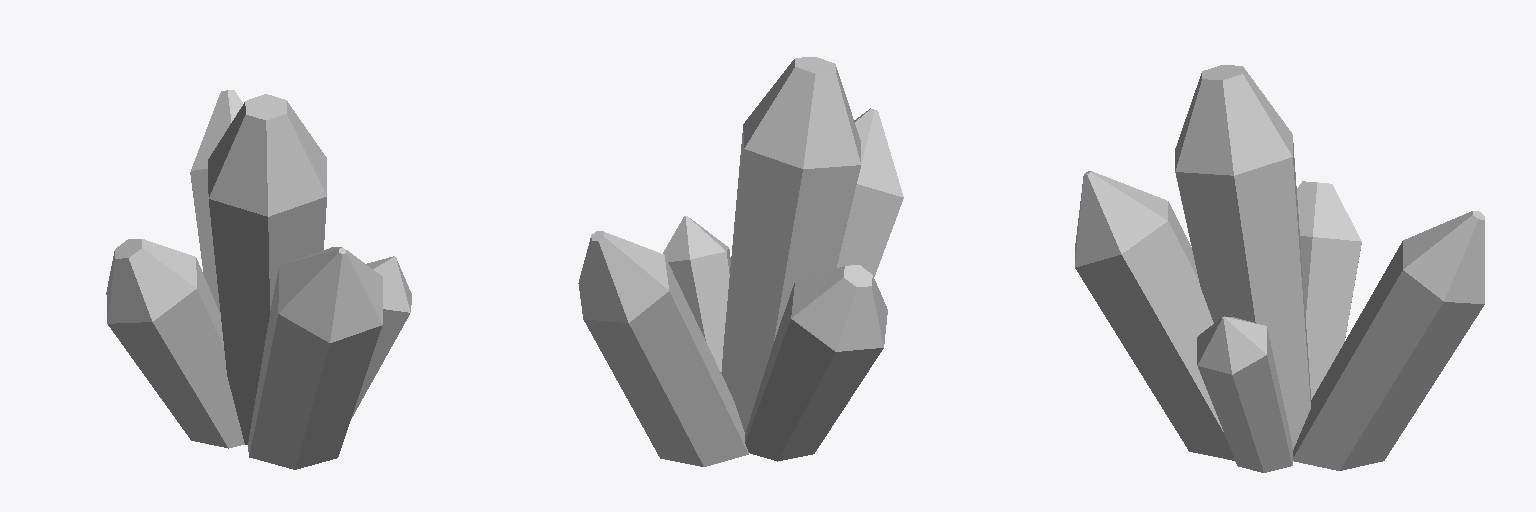
Rendered from earthcrystal.obj.
3 views of the same model, side by side, from view 1: azimuth 30°, elevation 25°; view 2: azimuth 150°, elevation 25°; view 3: azimuth 270°, elevation 25° (orthographic).
Visible parts, largest first — view 1: Crystal_Customizer2; view 2: Crystal_Customizer2; view 3: Crystal_Customizer2.
Boxes of the visible parts, box(x1,y1,x2,y2) form: Crystal_Customizer2: box(106, 90, 411, 469); Crystal_Customizer2: box(578, 57, 903, 466); Crystal_Customizer2: box(1075, 65, 1484, 472).
Size of the model in its own units: 0.6499 by 0.8342 by 0.8714.